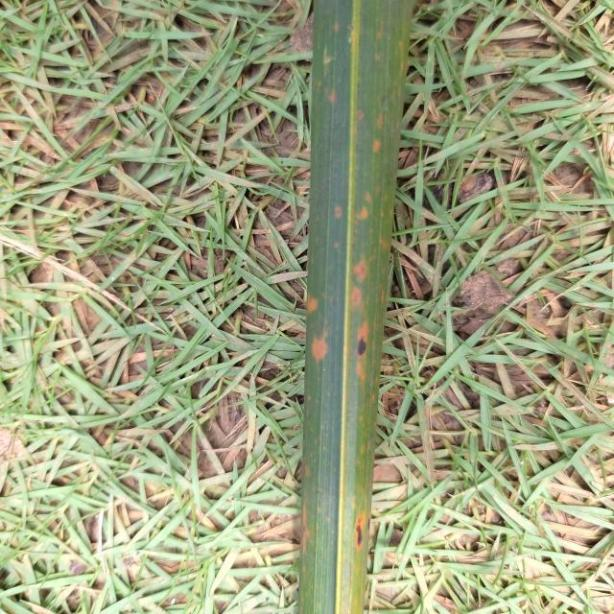Kalium: (297, 0, 408, 614)
